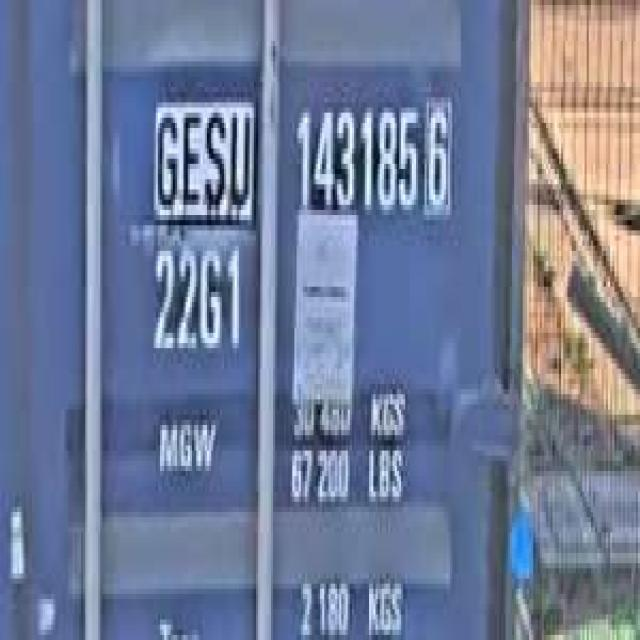dv: (422, 82, 457, 215)
owner: (151, 92, 254, 215)
serial: (290, 87, 418, 225)
size: (147, 235, 245, 364)
